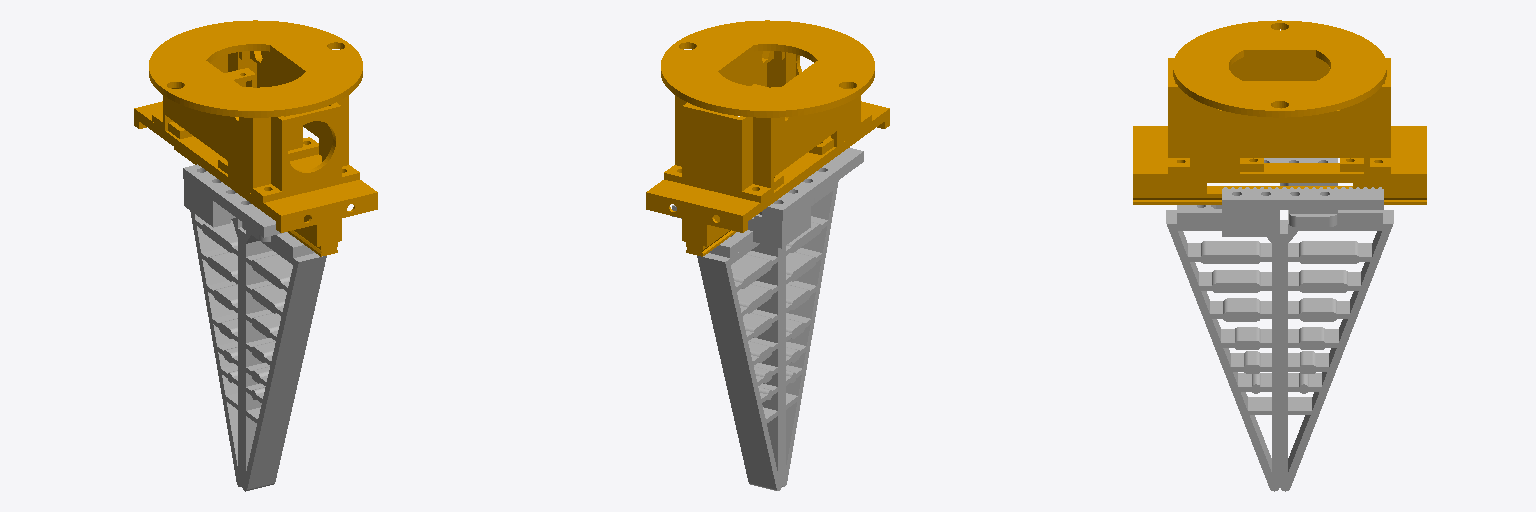
URDF robot description (lite6):
<robot name="lite6">

    <material name="White">
      <color rgba="1.0 1.0 1.0 1.0"/>
    </material>

    <material name="Silver">
      <color rgba="0.753 0.753 0.753 1.0"/>
    </material>

    <link name="link_base">
      <inertial>
        <origin
          xyz="-0.00829544579053192 3.26357432323433E-05 0.0631194584987089"
          rpy="0 0 0" />
        <mass
          value="2.11" />
        <inertia
          ixx="0"
          ixy="0"
          ixz="0"
          iyy="0"
          iyz="0"
          izz="0" />
      </inertial>
      <visual>
        <origin
          xyz="0 0 0"
          rpy="0 0 0" />
        <geometry>
          <mesh filename="meshes/lite6/visual/link_base.stl"/>
        </geometry>
        <material name="White" />
      </visual>
      <collision>
        <origin
          xyz="0 0 0"
          rpy="0 0 0" />
        <geometry>
          <mesh filename="meshes/lite6/collision/link_base.stl"/>
        </geometry>
      </collision>
    </link>
    <link name="link1">
      <inertial>
        <origin
          xyz="-0.00036 0.042 -0.0025"
          rpy="0 0 0" />
        <mass
          value="1.411" />
        <inertia
          ixx="1.45164E-03"
          ixy="1.24E-05"
          ixz="-6.7E-06"
          iyy="8.873E-04"
          iyz="1.255E-04"
          izz="1.31993E-03" />
      </inertial>
      <visual>
        <origin
          xyz="0 0 0"
          rpy="0 0 0" />
        <geometry>
          <mesh filename="meshes/lite6/visual/link1.stl"/>
        </geometry>
        <material name="White" />
      </visual>
      <collision>
        <origin
          xyz="0 0 0"
          rpy="0 0 0" />
        <geometry>
          <mesh filename="meshes/lite6/collision/link1.stl"/>
        </geometry>
      </collision>
    </link>
    <joint name="joint1" type="revolute">
      <origin
        xyz="0 0 0.2433"
        rpy="0 0 0" />
      <parent
        link="link_base" />
      <child
        link="link1" />
      <axis
        xyz="0 0 1" />
      <limit
        lower="-6.28"
        upper="6.28"
        effort="32.0"
        velocity="3.14"/>
      <dynamics damping="1.0" friction="1.0"/>
    </joint>
    <link name="link2">
      <inertial>
        <origin
          xyz="0.179 0.0 0.0584"
          rpy="0 0 0" />
        <mass
          value="1.34" />
        <inertia
          ixx="1.5854E-03"
          ixy="-6.766E-06"
          ixz="-1.15136E-03"
          iyy="5.6097E-03"
          iyz="1.14E-06"
          izz="4.85E-03" />
      </inertial>
      <visual>
        <origin
          xyz="0 0 0"
          rpy="0 0 0" />
        <geometry>
          <mesh filename="meshes/lite6/visual/link2.stl"/>
        </geometry>
        <material name="White" />
      </visual>
      <collision>
        <origin
          xyz="0 0 0"
          rpy="0 0 0" />
        <geometry>
          <mesh filename="meshes/lite6/collision/link2.stl"/>
        </geometry>
      </collision>
    </link>
    <joint name="joint2" type="revolute">
      <origin
        xyz="0 0 0"
        rpy="1.5708 -1.5708 3.1416" />
      <parent
        link="link1" />
      <child
        link="link2" />
      <axis
        xyz="0 0 1" />
      <limit
        lower="-2.61799"
        upper="2.61799"
        effort="32.0"
        velocity="3.14"/>
      <dynamics damping="1.0" friction="1.0"/>
    </joint>
    <link name="link3">
      <inertial>
        <origin
          xyz="0.072 -0.036 -0.001"
          rpy="0 0 0" />
        <mass
          value="0.953" />
        <inertia
          ixx="8.861E-04"
          ixy="-3.9287E-04"
          ixz="7.066E-05"
          iyy="1.5785E-03"
          iyz="-2.445E-05"
          izz="1.84677E-03" />
      </inertial>
      <visual>
        <origin
          xyz="0 0 0"
          rpy="0 0 0" />
        <geometry>
          <mesh filename="meshes/lite6/visual/link3.stl"/>
        </geometry>
        <material name="White" />
      </visual>
      <collision>
        <origin
          xyz="0 0 0"
          rpy="0 0 0" />
        <geometry>
          <mesh filename="meshes/lite6/collision/link3.stl"/>
        </geometry>
      </collision>
    </link>
    <joint name="joint3" type="revolute">
      <origin
        xyz="0.2 0 0"
        rpy="-3.1416 0 1.5708" />
      <parent
        link="link2" />
      <child
        link="link3" />
      <axis
        xyz="0 0 1" />
      <limit
        lower="-0.061087"
        upper="5.235988"
        effort="18.0"
        velocity="3.14"/>
      <dynamics damping="1.0" friction="1.0"/>
    </joint>
    <link name="link4">
      <inertial>
        <origin
          xyz="-0.002 -0.0285 -0.0813"
          rpy="0 0 0" />
        <mass
          value="1.284" />
        <inertia
          ixx="3.705E-03"
          ixy="-2.0E-06"
          ixz="7.17E-06"
          iyy="3.0455E-03"
          iyz="-9.3188E-04"
          izz="1.5413E-03" />
      </inertial>
      <visual>
        <origin
          xyz="0 0 0"
          rpy="0 0 0" />
        <geometry>
          <mesh filename="meshes/lite6/visual/link4.stl"/>
        </geometry>
        <material name="White" />
      </visual>
      <collision>
        <origin
          xyz="0 0 0"
          rpy="0 0 0" />
        <geometry>
          <mesh filename="meshes/lite6/collision/link4.stl"/>
        </geometry>
      </collision>
    </link>
    <joint name="joint4" type="revolute">
      <origin
        xyz="0.087 -0.2276 0"
        rpy="1.5708 0 0" />
      <parent
        link="link3" />
      <child
        link="link4" />
      <axis
        xyz="0 0 1" />
      <limit
        lower="-6.28"
        upper="6.28"
        effort="2.5"
        velocity="3.14"/>
      <dynamics damping="0.1" friction="0.1"/>
    </joint>
    <link name="link5">
      <inertial>
        <origin
          xyz="0.0 0.010 0.0019"
          rpy="0 0 0" />
        <mass
          value="0.804" />
        <inertia
          ixx="5.668E-04"
          ixy="6E-07"
          ixz="-5.3E-06"
          iyy="5.077E-04"
          iyz="-4.8E-07"
          izz="5.3E-04" />
      </inertial>
      <visual>
        <origin
          xyz="0 0 0"
          rpy="0 0 0" />
        <geometry>
          <mesh filename="meshes/lite6/visual/link5.stl"/>
        </geometry>
        <material name="White" />
      </visual>
      <collision>
        <origin
          xyz="0 0 0"
          rpy="0 0 0" />
        <geometry>
          <mesh filename="meshes/lite6/collision/link5.stl"/>
        </geometry>
      </collision>
    </link>
    <joint name="joint5" type="revolute">
      <origin
        xyz="0 0 0"
        rpy="1.5708 0 0" />
      <parent
        link="link4" />
      <child
        link="link5" />
      <axis
        xyz="0 0 1" />
      <limit
        lower="-2.1642"
        upper="2.1642"
        effort="2.5"
        velocity="3.14"/>
      <dynamics damping="0.1" friction="0.1"/>
    </joint>
    <link name="link6">
      <inertial>
        <origin
          xyz="0.0 -0.00194 -0.0102"
          rpy="0 0 0" />
        <mass
          value="0.180" />
        <inertia
          ixx="7.726E-05"
          ixy="1E-06"
          ixz="4E-07"
          iyy="8.5665E-05"
          iyz="-6E-07"
          izz="1.4814E-04" />
      </inertial>
      <visual>
        <origin
          xyz="0 0 0"
          rpy="0 0 0" />
        <geometry>
          <mesh filename="meshes/lite6/visual/link6.stl"/>
        </geometry>
        <material name="White" />
      </visual>
      <collision>
        <origin
          xyz="0 0 0"
          rpy="0 0 0" />
        <geometry>
          <mesh filename="meshes/lite6/collision/link6.stl"/>
        </geometry>
      </collision>
    </link>
    <joint name="joint6" type="revolute">
      <origin
        xyz="0 0.0615 0"
        rpy="-1.5708 0 0" />
      <parent
        link="link5" />
      <child
        link="link6" />
      <axis
        xyz="0 0 1" />
      <limit
        lower="-6.28"
        upper="6.28"
        effort="2.5"
        velocity="3.14"/>
      <dynamics damping="0.1" friction="0.1"/>
    </joint>

    <link name="link_eef"/>

    <joint
      name="joint_eef"
      type="fixed">
      <origin
        xyz="0 0 0"
        rpy="0 0 0" />
      <parent
        link="link6" />
      <child
        link="link_eef" />
    </joint>
    
    <!-- =================== Gripper starts here =================== -->

    <joint name="arm_to_gripper_base_joint" type="fixed">
      <parent link="link_eef"/>
      <child link="base_link"/>
      <origin xyz="0 0 0" rpy="0 0 -1.5708"/> 
    </joint>
    
    <link name="base_link">
      <inertial>
        <mass value="0.2"/> <origin xyz="0 0 0.02" rpy="0 0 0"/>
        <inertia ixx="0.001" ixy="0" ixz="0" iyy="0.001" iyz="0" izz="0.001"/> </inertial>
      <visual>
        <geometry>
          <mesh filename="meshes/gripper/base.stl" scale="0.001 0.001 0.001"/>
        </geometry>
        <material name="gray">
          <!-- <color rgba="0.7 0.7 0.7 1"/> -->
        </material>
      </visual>
      <collision>
        <geometry>
          <mesh filename="meshes/gripper/base.stl" scale="0.001 0.001 0.001"/>
        </geometry>
      </collision>
    </link>
  
    <link name="left_finger">
      <inertial>
        <mass value="0.05"/> <origin xyz="0 0 0" rpy="0 0 0"/>
        <inertia ixx="0.0001" ixy="0" ixz="0" iyy="0.0001" iyz="0" izz="0.0001"/> </inertial>
      <visual>
        <geometry>
          <mesh filename="meshes/gripper/left_finger.stl" scale="0.001 0.001 0.001"/>
        </geometry>
        <material name="Silver" />
      </visual>
      <collision>
        <geometry>
          <mesh filename="meshes/gripper/left_finger.stl" scale="0.001 0.001 0.001"/>
        </geometry>
      </collision>
    </link>

    <joint name="left_finger_joint" type="prismatic">
      <parent link="base_link"/>
      <child link="left_finger"/>
      <!-- <origin xyz="0 0.015 0.04" rpy="0 0 0"/>  -->
      <axis xyz="-1 0 0"/> <limit lower="-1000" upper="1000" effort="1000" velocity="1000"/>
    </joint>

    <link name="right_finger">
      <inertial>
        <mass value="0.05"/> <origin xyz="0 0 0" rpy="0 0 0"/>
        <inertia ixx="0.0001" ixy="0" ixz="0" iyy="0.0001" iyz="0" izz="0.0001"/> </inertial>
      <visual>
        <geometry>
          <mesh filename="meshes/gripper/right_finger.stl" scale="0.001 0.001 0.001"/>
        </geometry>
        <material name="Silver" />
      </visual>
      <collision>
        <geometry>
          <mesh filename="meshes/gripper/right_finger.stl" scale="0.001 0.001 0.001"/>
        </geometry>
      </collision>
    </link>

    <joint name="right_finger_joint" type="prismatic">
      <parent link="base_link"/>
      <child link="right_finger"/>
      <!-- <origin xyz="0 -0.015 0.04" rpy="0 0 0"/> -->
      <axis xyz="1 0 0"/> <limit lower="-1000" upper="1000" effort="1000" velocity="1000"/>
      <mimic joint="left_finger_joint" multiplier="1" offset="0"/> </joint>

</robot>

--- What the picture shows (computed from the rendered views, not written in the file) ---
3 views of the same robot in one strip: view 1: azimuth 30°, elevation 25°; view 2: azimuth 150°, elevation 25°; view 3: azimuth 270°, elevation 25° (orthographic).
Model lite6 with 11 links and 10 joints (6 revolute, 2 prismatic, 2 fixed), rooted at link_base, posed every joint at zero.
Visible links, largest first — view 1: base_link, left_finger, right_finger; view 2: base_link, right_finger, left_finger; view 3: base_link, left_finger, right_finger.
Boxes of the visible links, x1,y1,x2,y2 form: base_link: (134,20,377,256); left_finger: (242,222,326,491); right_finger: (183,164,284,486); base_link: (646,20,889,256); right_finger: (697,148,863,490); left_finger: (672,180,838,486); base_link: (1133,20,1426,204); left_finger: (1166,187,1383,491); right_finger: (1264,158,1393,491).
Bounding box of the posed robot: 0.073 × 0.1 × 0.1576 m (x, y, z).
3 mesh visuals loaded from 10 distinct referenced files (3 binary STL); not drawn: 7 (reference not matched to a file when rendering).